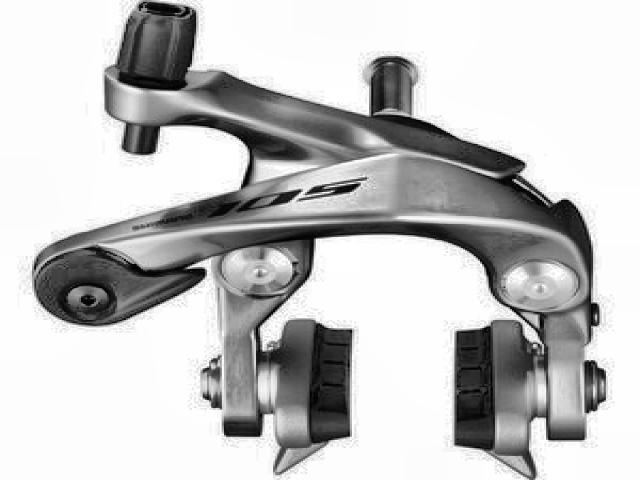rim_brake: (29, 0, 606, 477)
